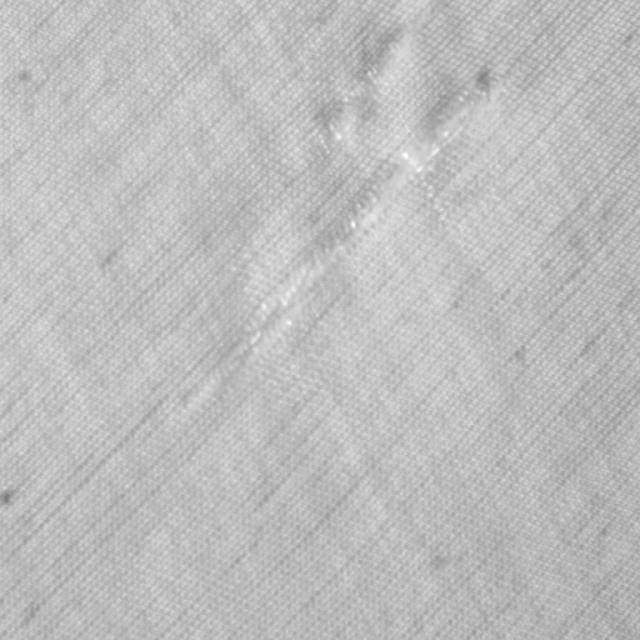thread error: (217, 0, 500, 372)
